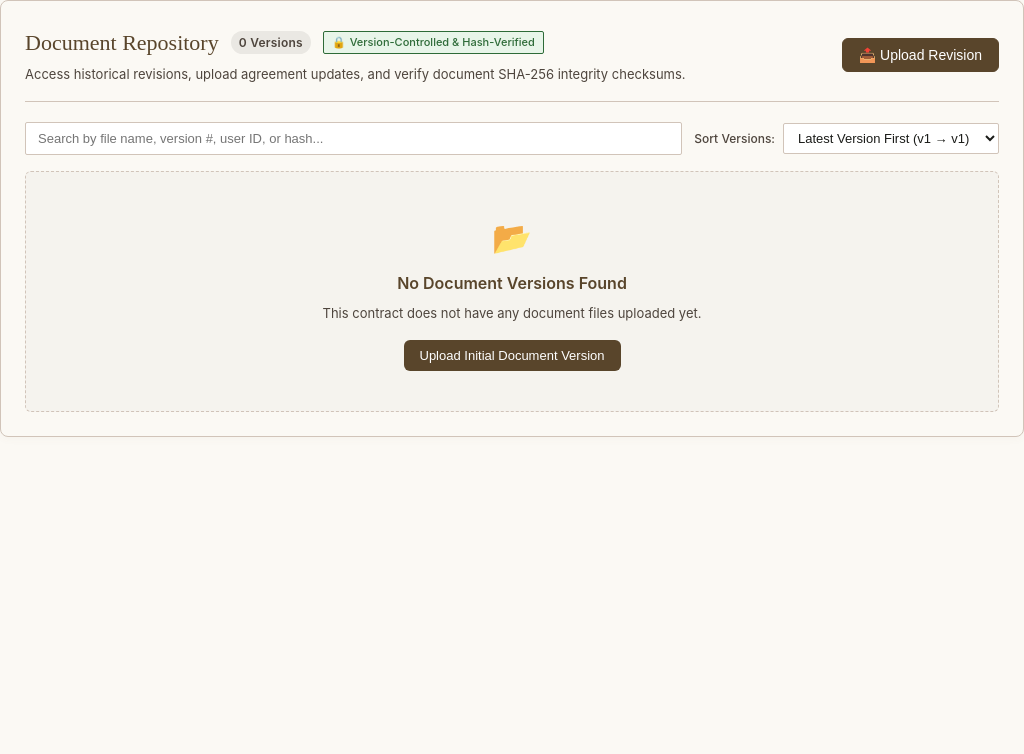
it: DocumentRepository Component › renders empty state when no documents exist and allows opening upload revision form
Expected: the element with test id "document-empty-state" is shown, top-left (25, 171), bottom-right (999, 412)
Expected: the heading "No Document Versions Found" is shown, top-left (397, 273), bottom-right (627, 293)
Click the button with test id "upload-document-toggle": (920, 55) top-left (842, 38), bottom-right (999, 72)
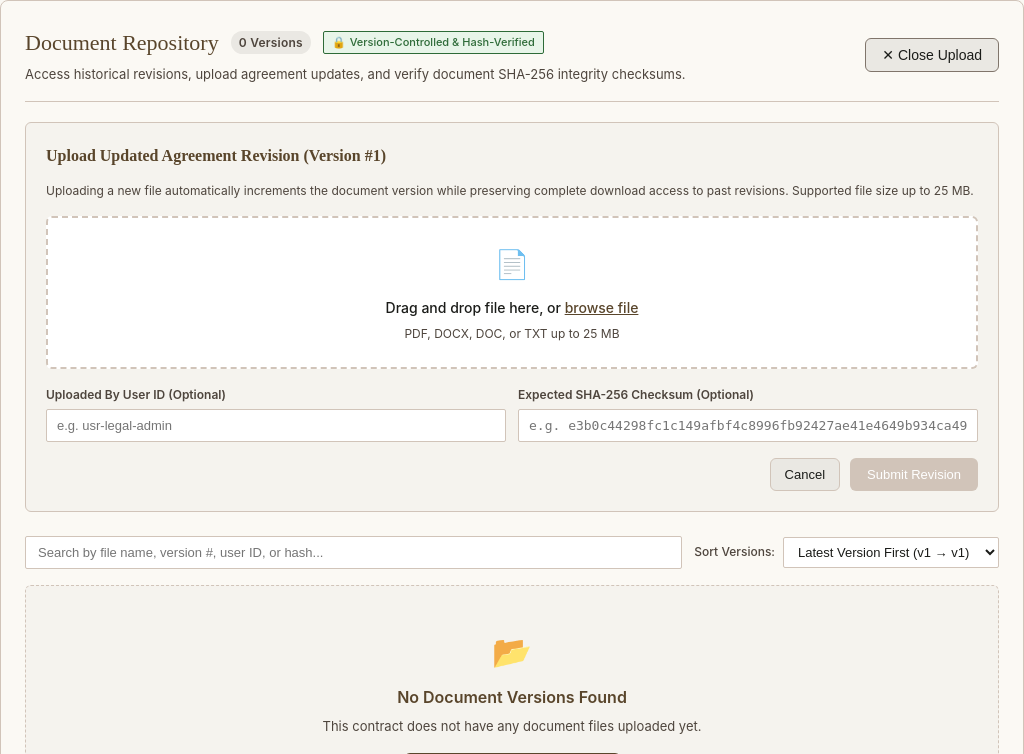
Expected: the element with test id "upload-form" is shown, top-left (25, 122), bottom-right (999, 512)
